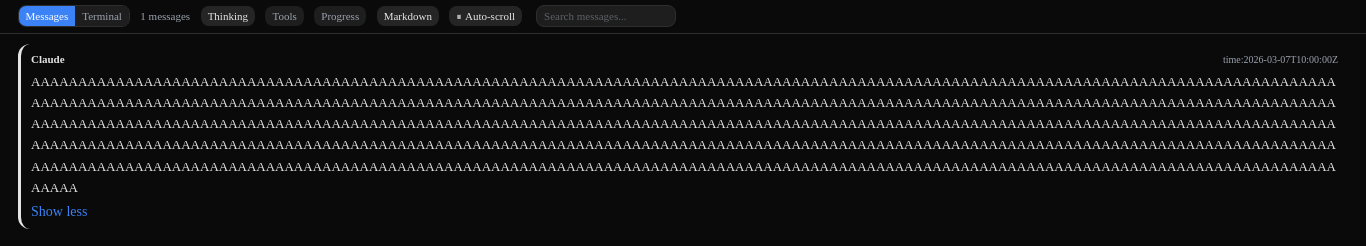
Test: MessageBubble rendering › toggles to "Show more" after clicking "Show less" on long message
Click the button "Show less".
click(59, 212)  # box [31,201,87,222]
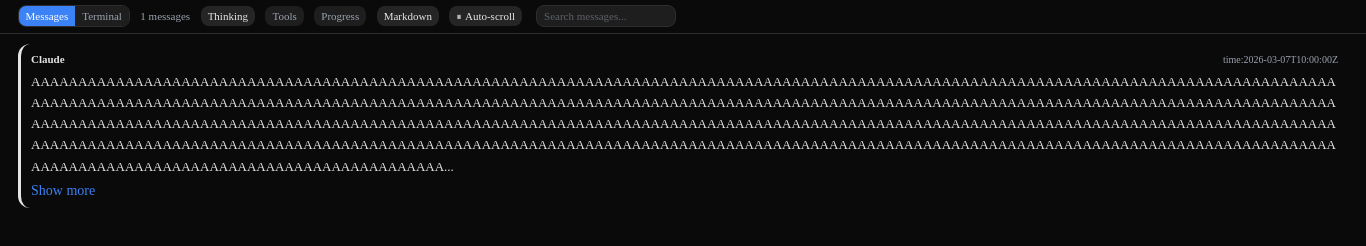
Expected: the button "Show more" is shown, [31,180,95,201]
